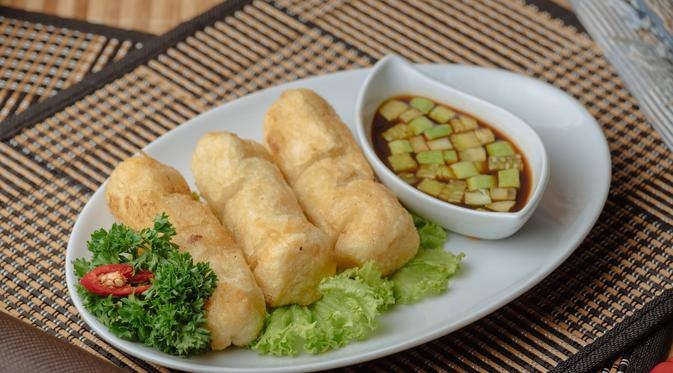pempek: (79, 75, 408, 323)
